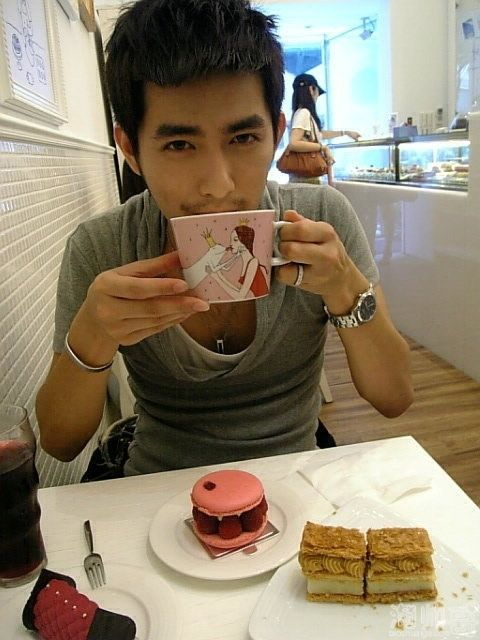person: (90, 10, 397, 473)
